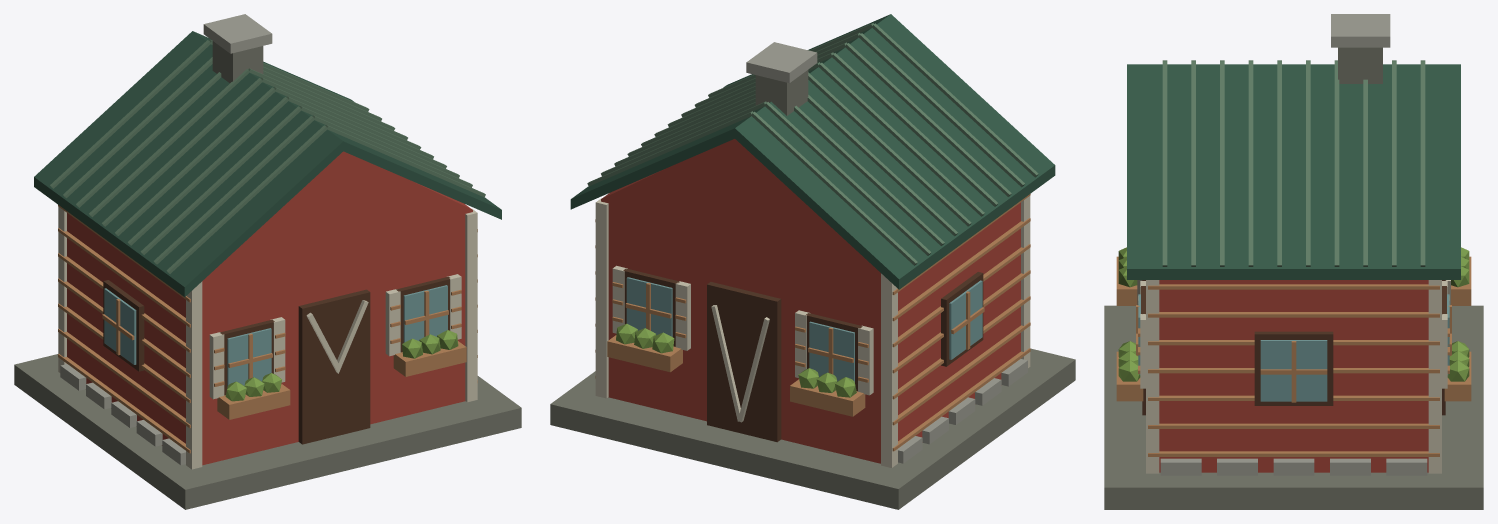
File: Backyard_Shed_Showcase.glb
The picture shows the model from 3 angles, left to right: view 1: azimuth 30°, elevation 25°; view 2: azimuth 150°, elevation 25°; view 3: azimuth 270°, elevation 25°; orthographic projection. The views are drawn at different scales.
Visible parts, largest first — view 1: Backyard_Shed_Showcase; view 2: Backyard_Shed_Showcase; view 3: Backyard_Shed_Showcase.
Boxes of the visible parts, box(x1,y1,x2,y2) form: Backyard_Shed_Showcase: box(14, 14, 521, 509); Backyard_Shed_Showcase: box(550, 14, 1075, 509); Backyard_Shed_Showcase: box(1104, 14, 1483, 509).
Size of the model in its own units: 4.2 by 4.24 by 3.7.
